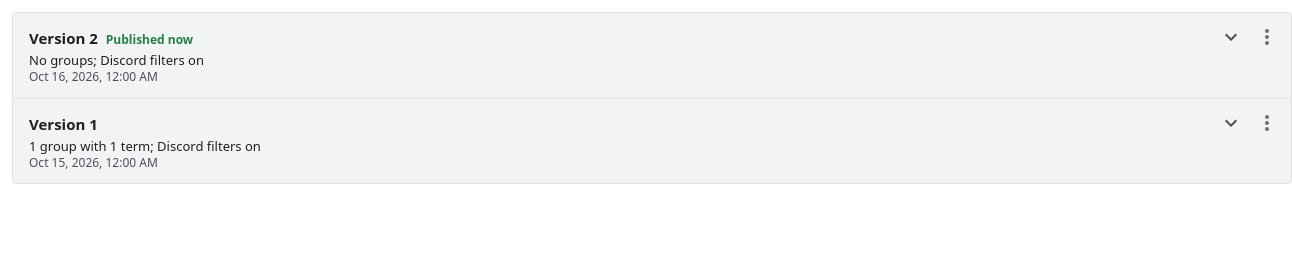
Test case: Versions on a phone › shows or hides a version's rules with a tap on the version
expect the text "Sets" is not shown: met
Click the button "Version 1" at (59, 124), box x1=13 y1=99 x2=1247 y2=183
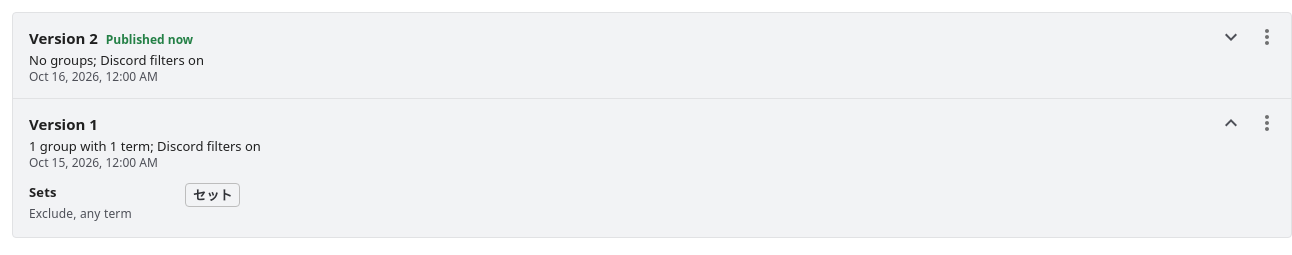
expect the button "Version 1" is expanded: met, box x1=13 y1=99 x2=1247 y2=183
expect the text "Sets" is shown: met, box x1=29 y1=183 x2=57 y2=201
